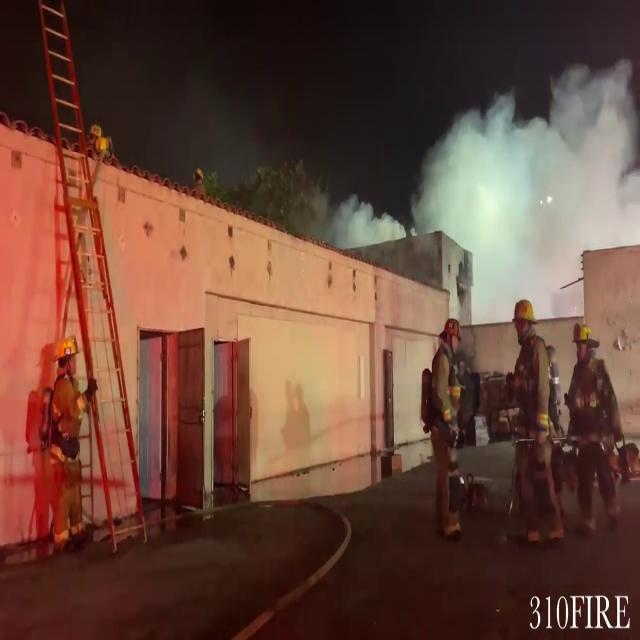Smoke: (419, 57, 640, 283), (322, 187, 408, 252)
